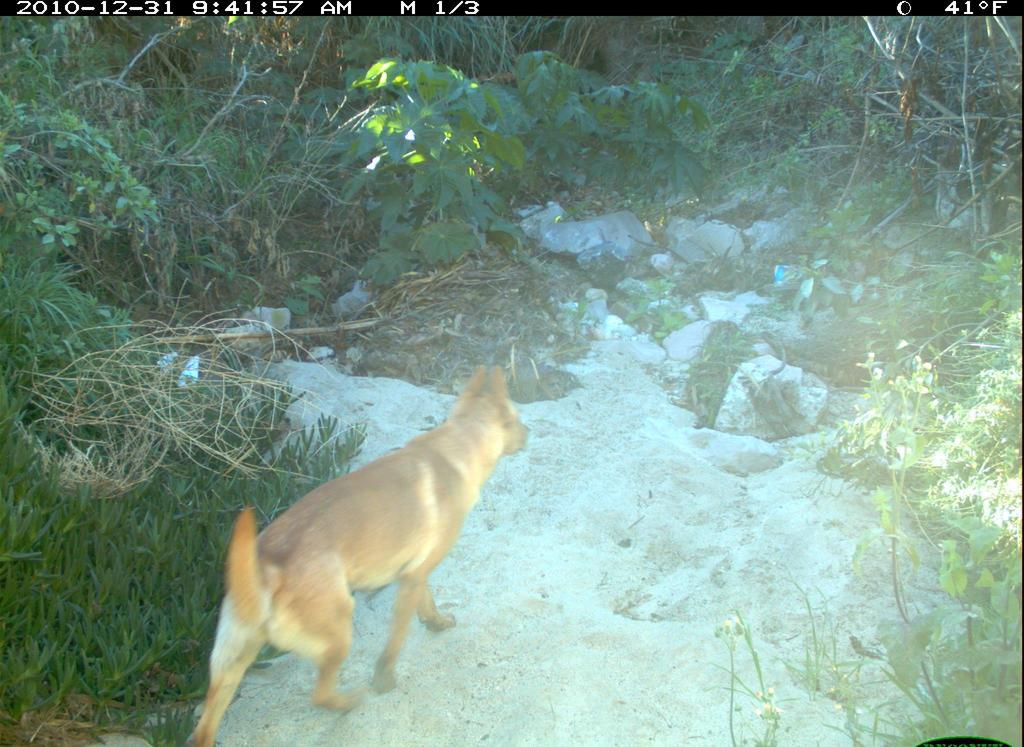dog: (175, 359, 545, 745)
